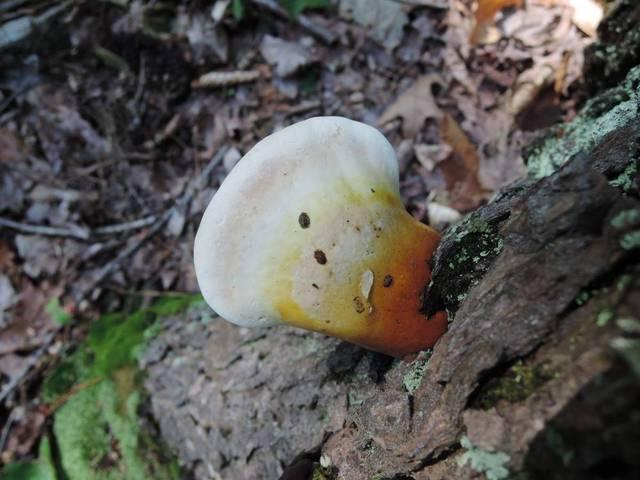Non-edible Mushroom: (191, 113, 451, 358)
